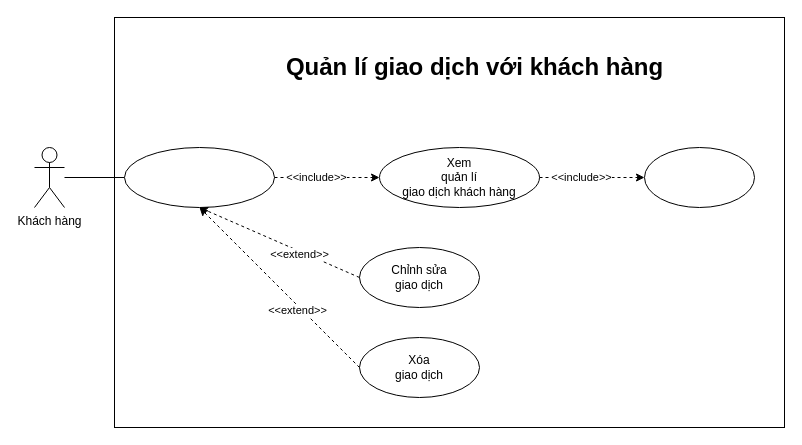
The diagram is 802 pixels wide and 445 high, and some of its shapes have lost their labels. Here are the shapes that lost their labels. From the top down, the centre of each, then its label:
At [199,177]: "HIển thị danh sách giao dịch".
At [699,177]: "Đăng nhập admin".
